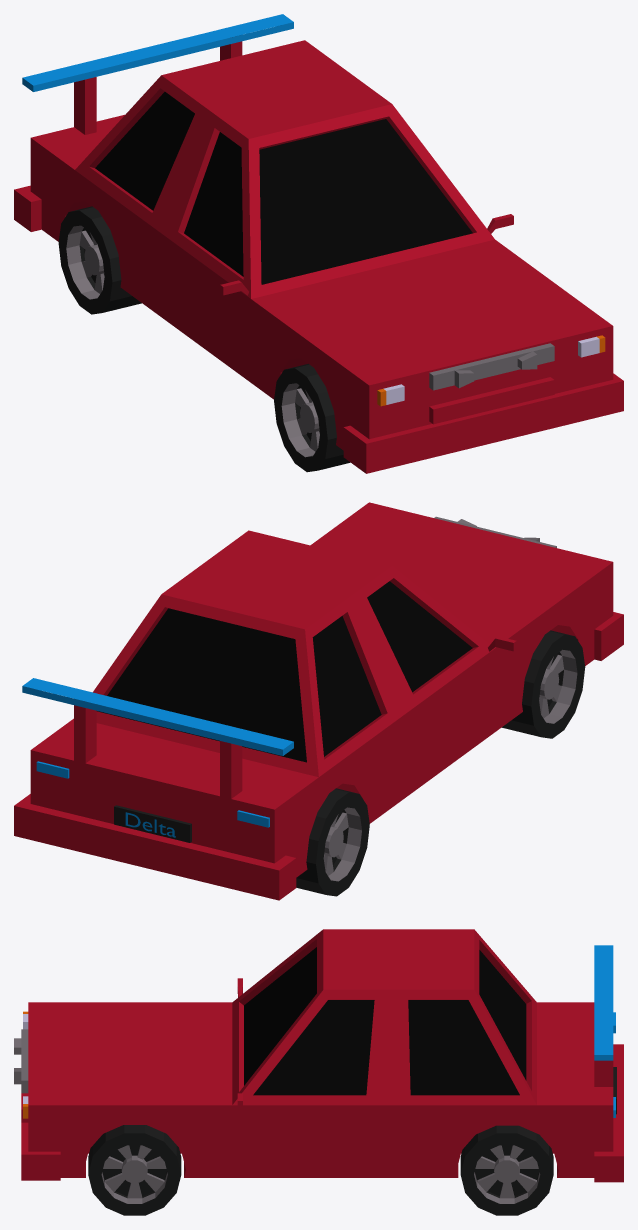
The model's file is Carsou.fbx.
3 renders of one model, top to bottom at view 1: azimuth 30°, elevation 25°; view 2: azimuth 150°, elevation 25°; view 3: azimuth 270°, elevation 25°, orthographic. The views are drawn at different scales.
Parts seen in each view (by area): view 1: Car_Cube, Right_Back_Wheel, Right_Front_Wheel, Carosse, Rectangle, Light_Front; view 2: Car_Cube, Right_Front_Wheel, Right_Back_Wheel, Plaque, Light_Back; view 3: Car_Cube, Left_Front_Wheel, Left_Back_Wheel, Carosse.
Part boxes in pixels (x1,y1,x2,y2): Car_Cube: (14, 14, 623, 473); Right_Back_Wheel: (58, 206, 141, 314); Right_Front_Wheel: (274, 363, 350, 472); Carosse: (429, 343, 554, 390); Rectangle: (429, 377, 554, 424); Light_Front: (377, 335, 605, 406); Car_Cube: (14, 502, 623, 900); Right_Front_Wheel: (502, 630, 585, 738); Right_Back_Wheel: (296, 788, 369, 896); Plaque: (114, 805, 191, 842); Light_Back: (36, 761, 269, 827); Car_Cube: (21, 929, 623, 1182); Left_Front_Wheel: (88, 1125, 181, 1215); Left_Back_Wheel: (460, 1125, 553, 1215); Carosse: (14, 1029, 28, 1093).
Bounding box in the file's own units: 281 × 217 × 591.
